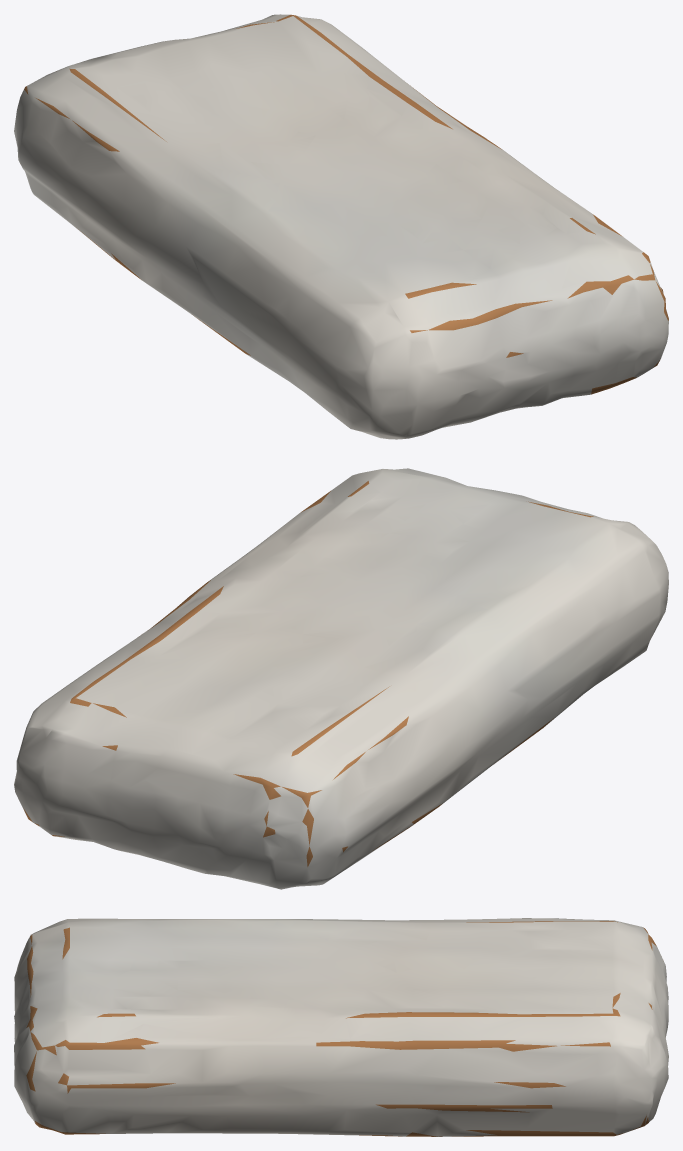
File: frost_sill_step.glb
3 views of the same model, one above another, from view 1: azimuth 30°, elevation 25°; view 2: azimuth 150°, elevation 25°; view 3: azimuth 270°, elevation 25° (orthographic). The views are drawn at different scales.
Visible parts, largest first — view 1: frost_sill_step; view 2: frost_sill_step; view 3: frost_sill_step.
Part boxes in pixels (x1,y1,x2,y2): frost_sill_step: (14, 14, 668, 439); frost_sill_step: (14, 468, 668, 889); frost_sill_step: (14, 918, 668, 1136).
Size of the model in its own units: 10.16 by 4.15 by 20.1.
